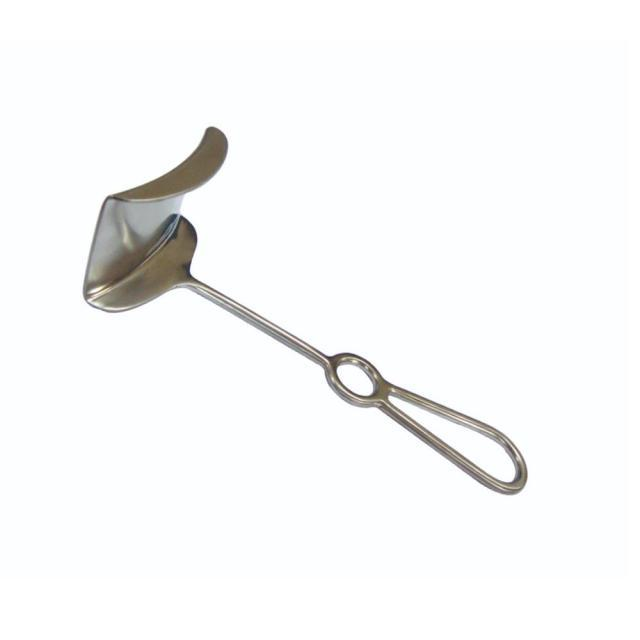Morris Retractor: (74, 124, 535, 508)
